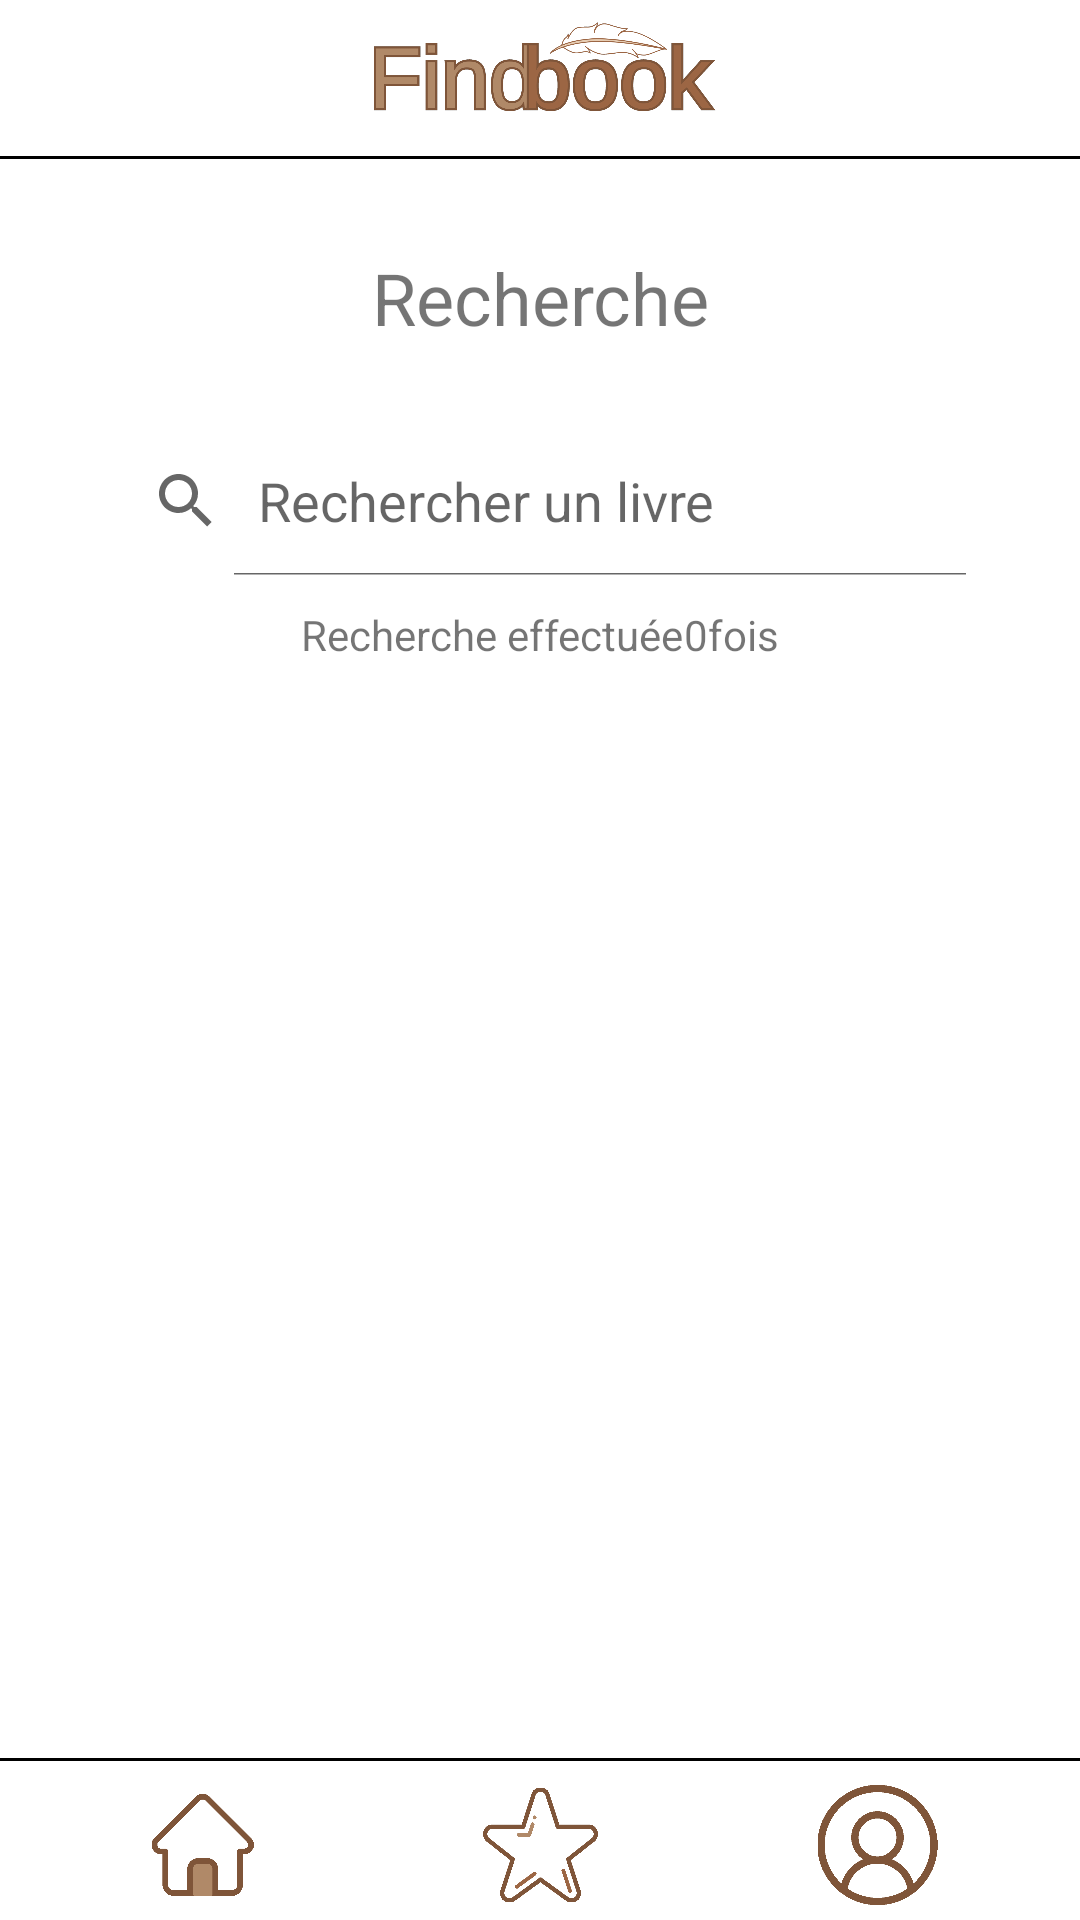

Where to tap for icons on this 1080px x 1920px app screen, as point (x, y):
favoris: point (540, 1845)
home: point (203, 1845)
moncompte: point (878, 1845)
